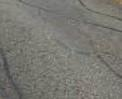crack: (88, 36, 121, 79), (0, 46, 23, 99), (17, 0, 65, 18), (51, 33, 84, 59), (76, 0, 122, 18), (68, 20, 122, 31)
